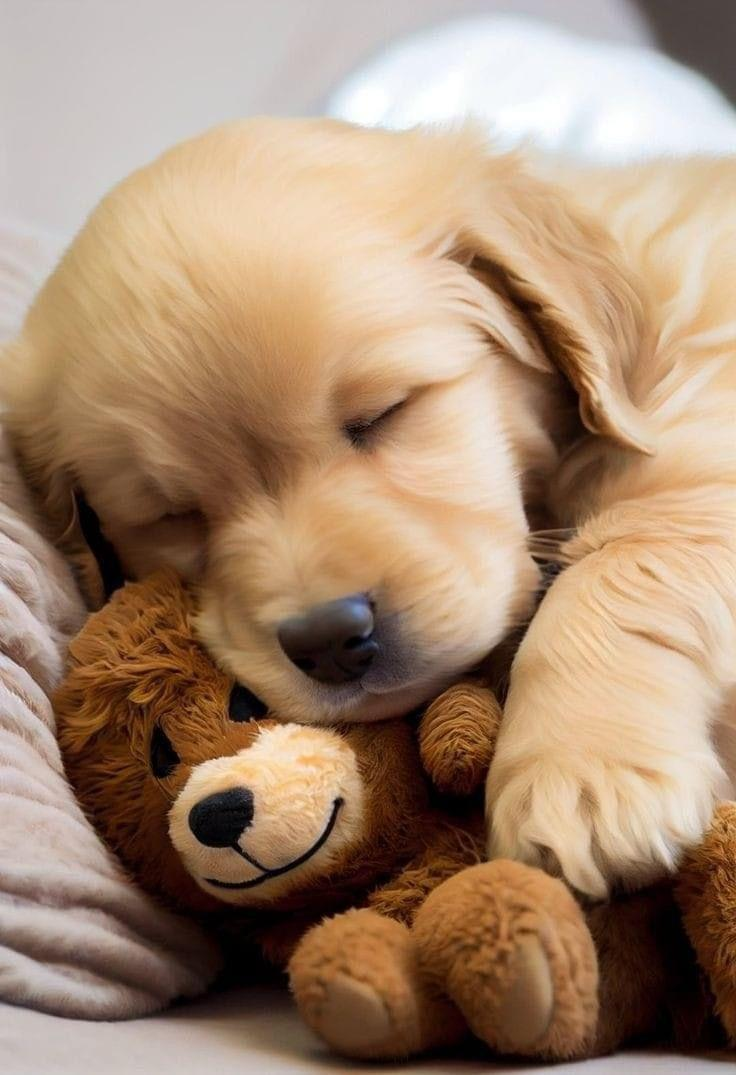puppy-dog: (0, 108, 736, 903)
